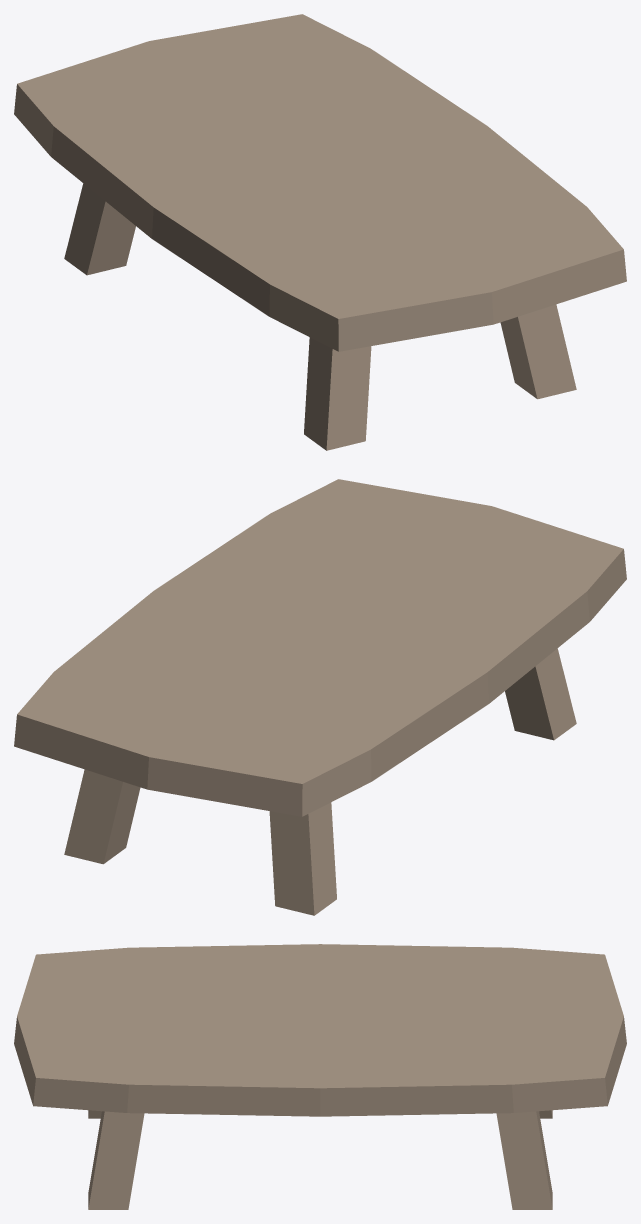
The model's file is Table_Mesh.fbx.
The picture shows the model from 3 angles, top to bottom: view 1: azimuth 30°, elevation 25°; view 2: azimuth 150°, elevation 25°; view 3: azimuth 270°, elevation 25°; orthographic projection. The views are drawn at different scales.
Visible parts, largest first — view 1: Coffee_Table; view 2: Coffee_Table; view 3: Coffee_Table.
Part boxes in pixels (bbox=[...]): Coffee_Table: bbox=[14, 14, 626, 450]; Coffee_Table: bbox=[14, 479, 626, 915]; Coffee_Table: bbox=[14, 944, 626, 1209].
Bounding box in the file's own units: 6.44 × 2.88 × 11.46.
